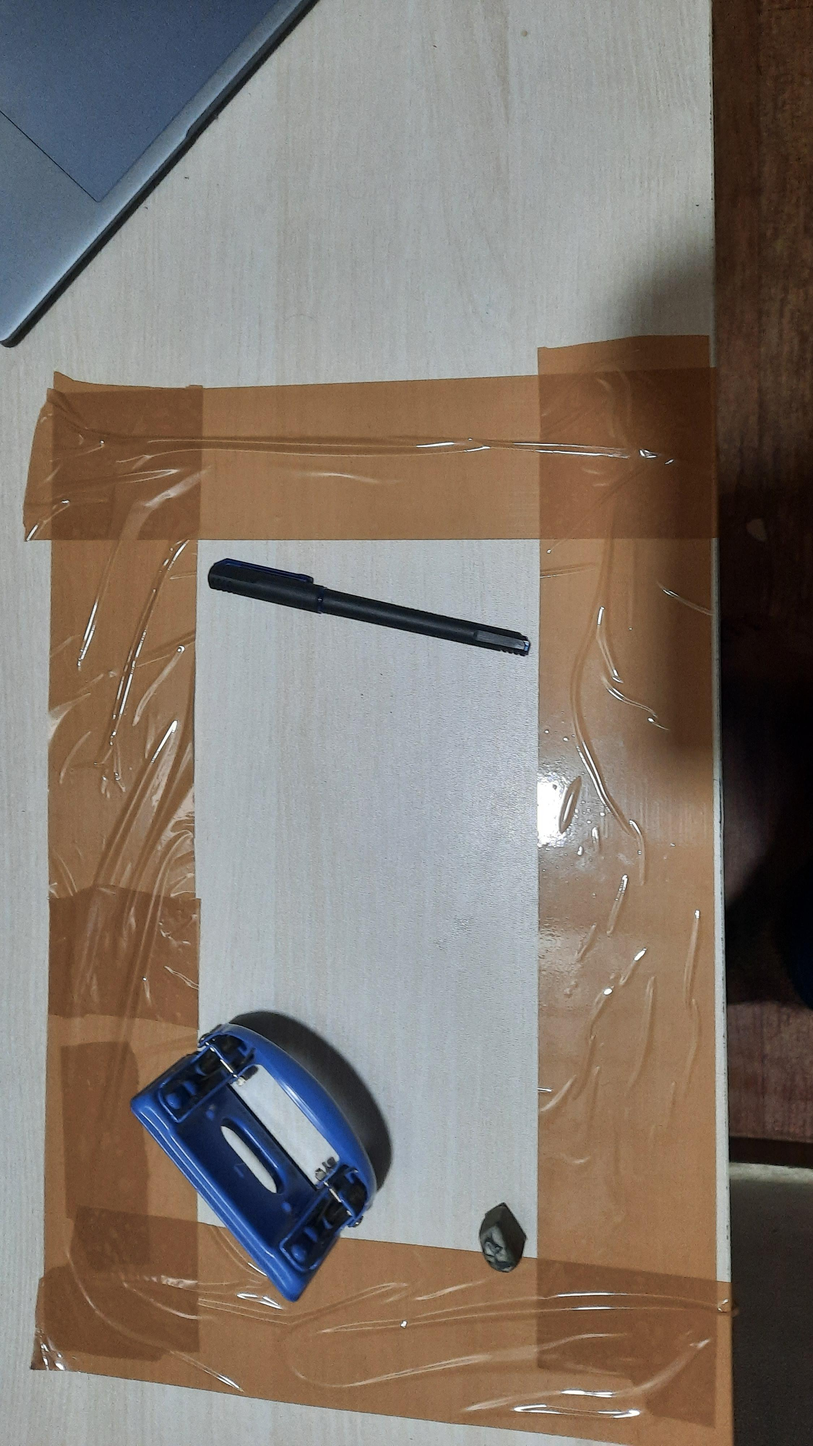Eraser: (479, 1202, 528, 1274)
Pen: (207, 558, 532, 656)
Punch: (128, 1010, 392, 1303)
